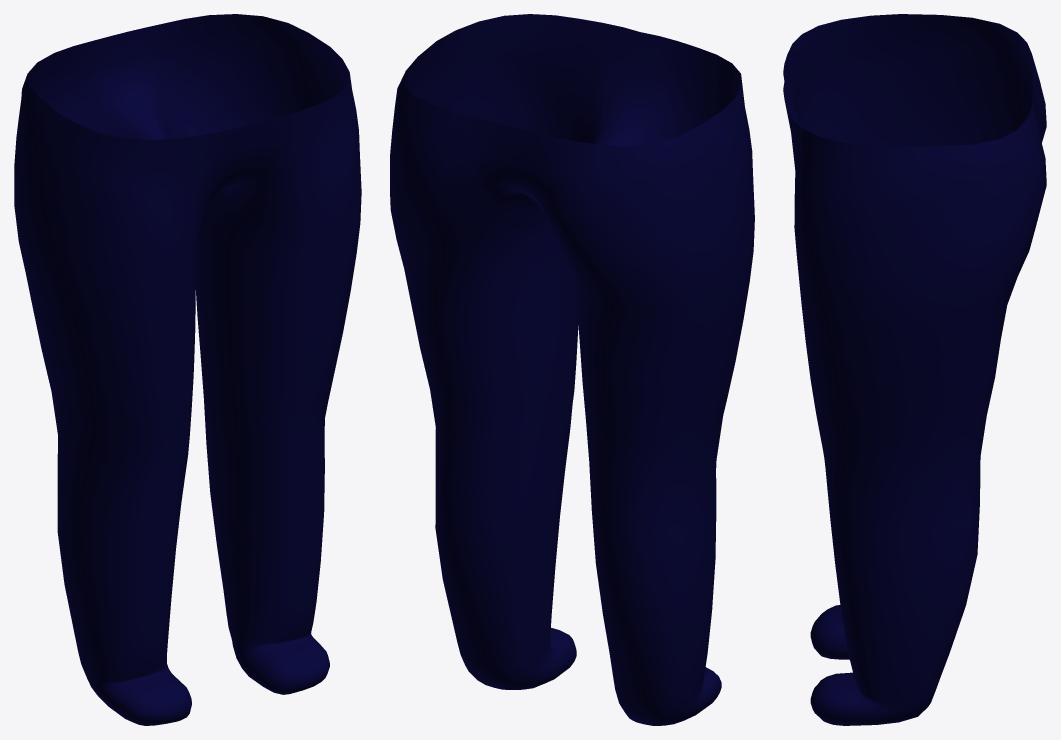
Rendered from sox_navy_santa.fbx.
The picture shows the model from 3 angles, left to right: view 1: azimuth 30°, elevation 25°; view 2: azimuth 150°, elevation 25°; view 3: azimuth 270°, elevation 25°; orthographic projection. The views are drawn at different scales.
Visible parts, largest first — view 1: sox_santa; view 2: sox_santa; view 3: sox_santa.
Boxes of the visible parts, <box> form: sox_santa: <box>14,14,361,725</box>; sox_santa: <box>390,14,754,725</box>; sox_santa: <box>783,14,1046,725</box>.
Bounding box in the file's own units: 0.8239 × 1.56 × 0.6189.
